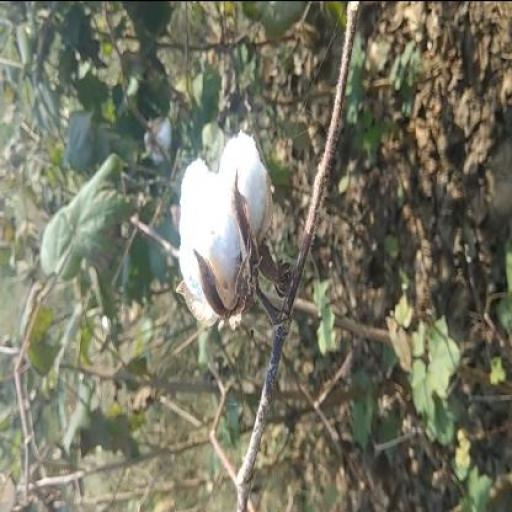cotton_ready: (164, 132, 314, 339)
